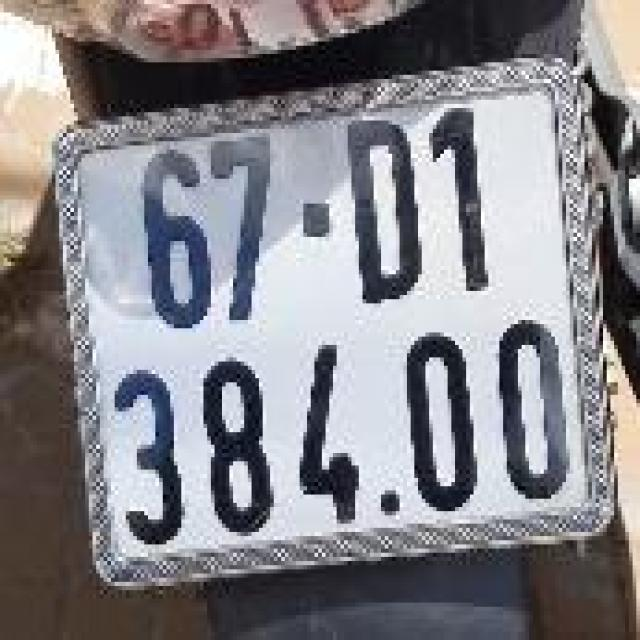0: (492, 310, 585, 500), (396, 333, 484, 511)
1: (424, 104, 505, 299)
3: (104, 368, 196, 550)
4: (290, 339, 372, 534)
6: (135, 146, 216, 337)
7: (215, 128, 281, 336)
8: (190, 358, 286, 536)
D: (344, 116, 425, 312)
